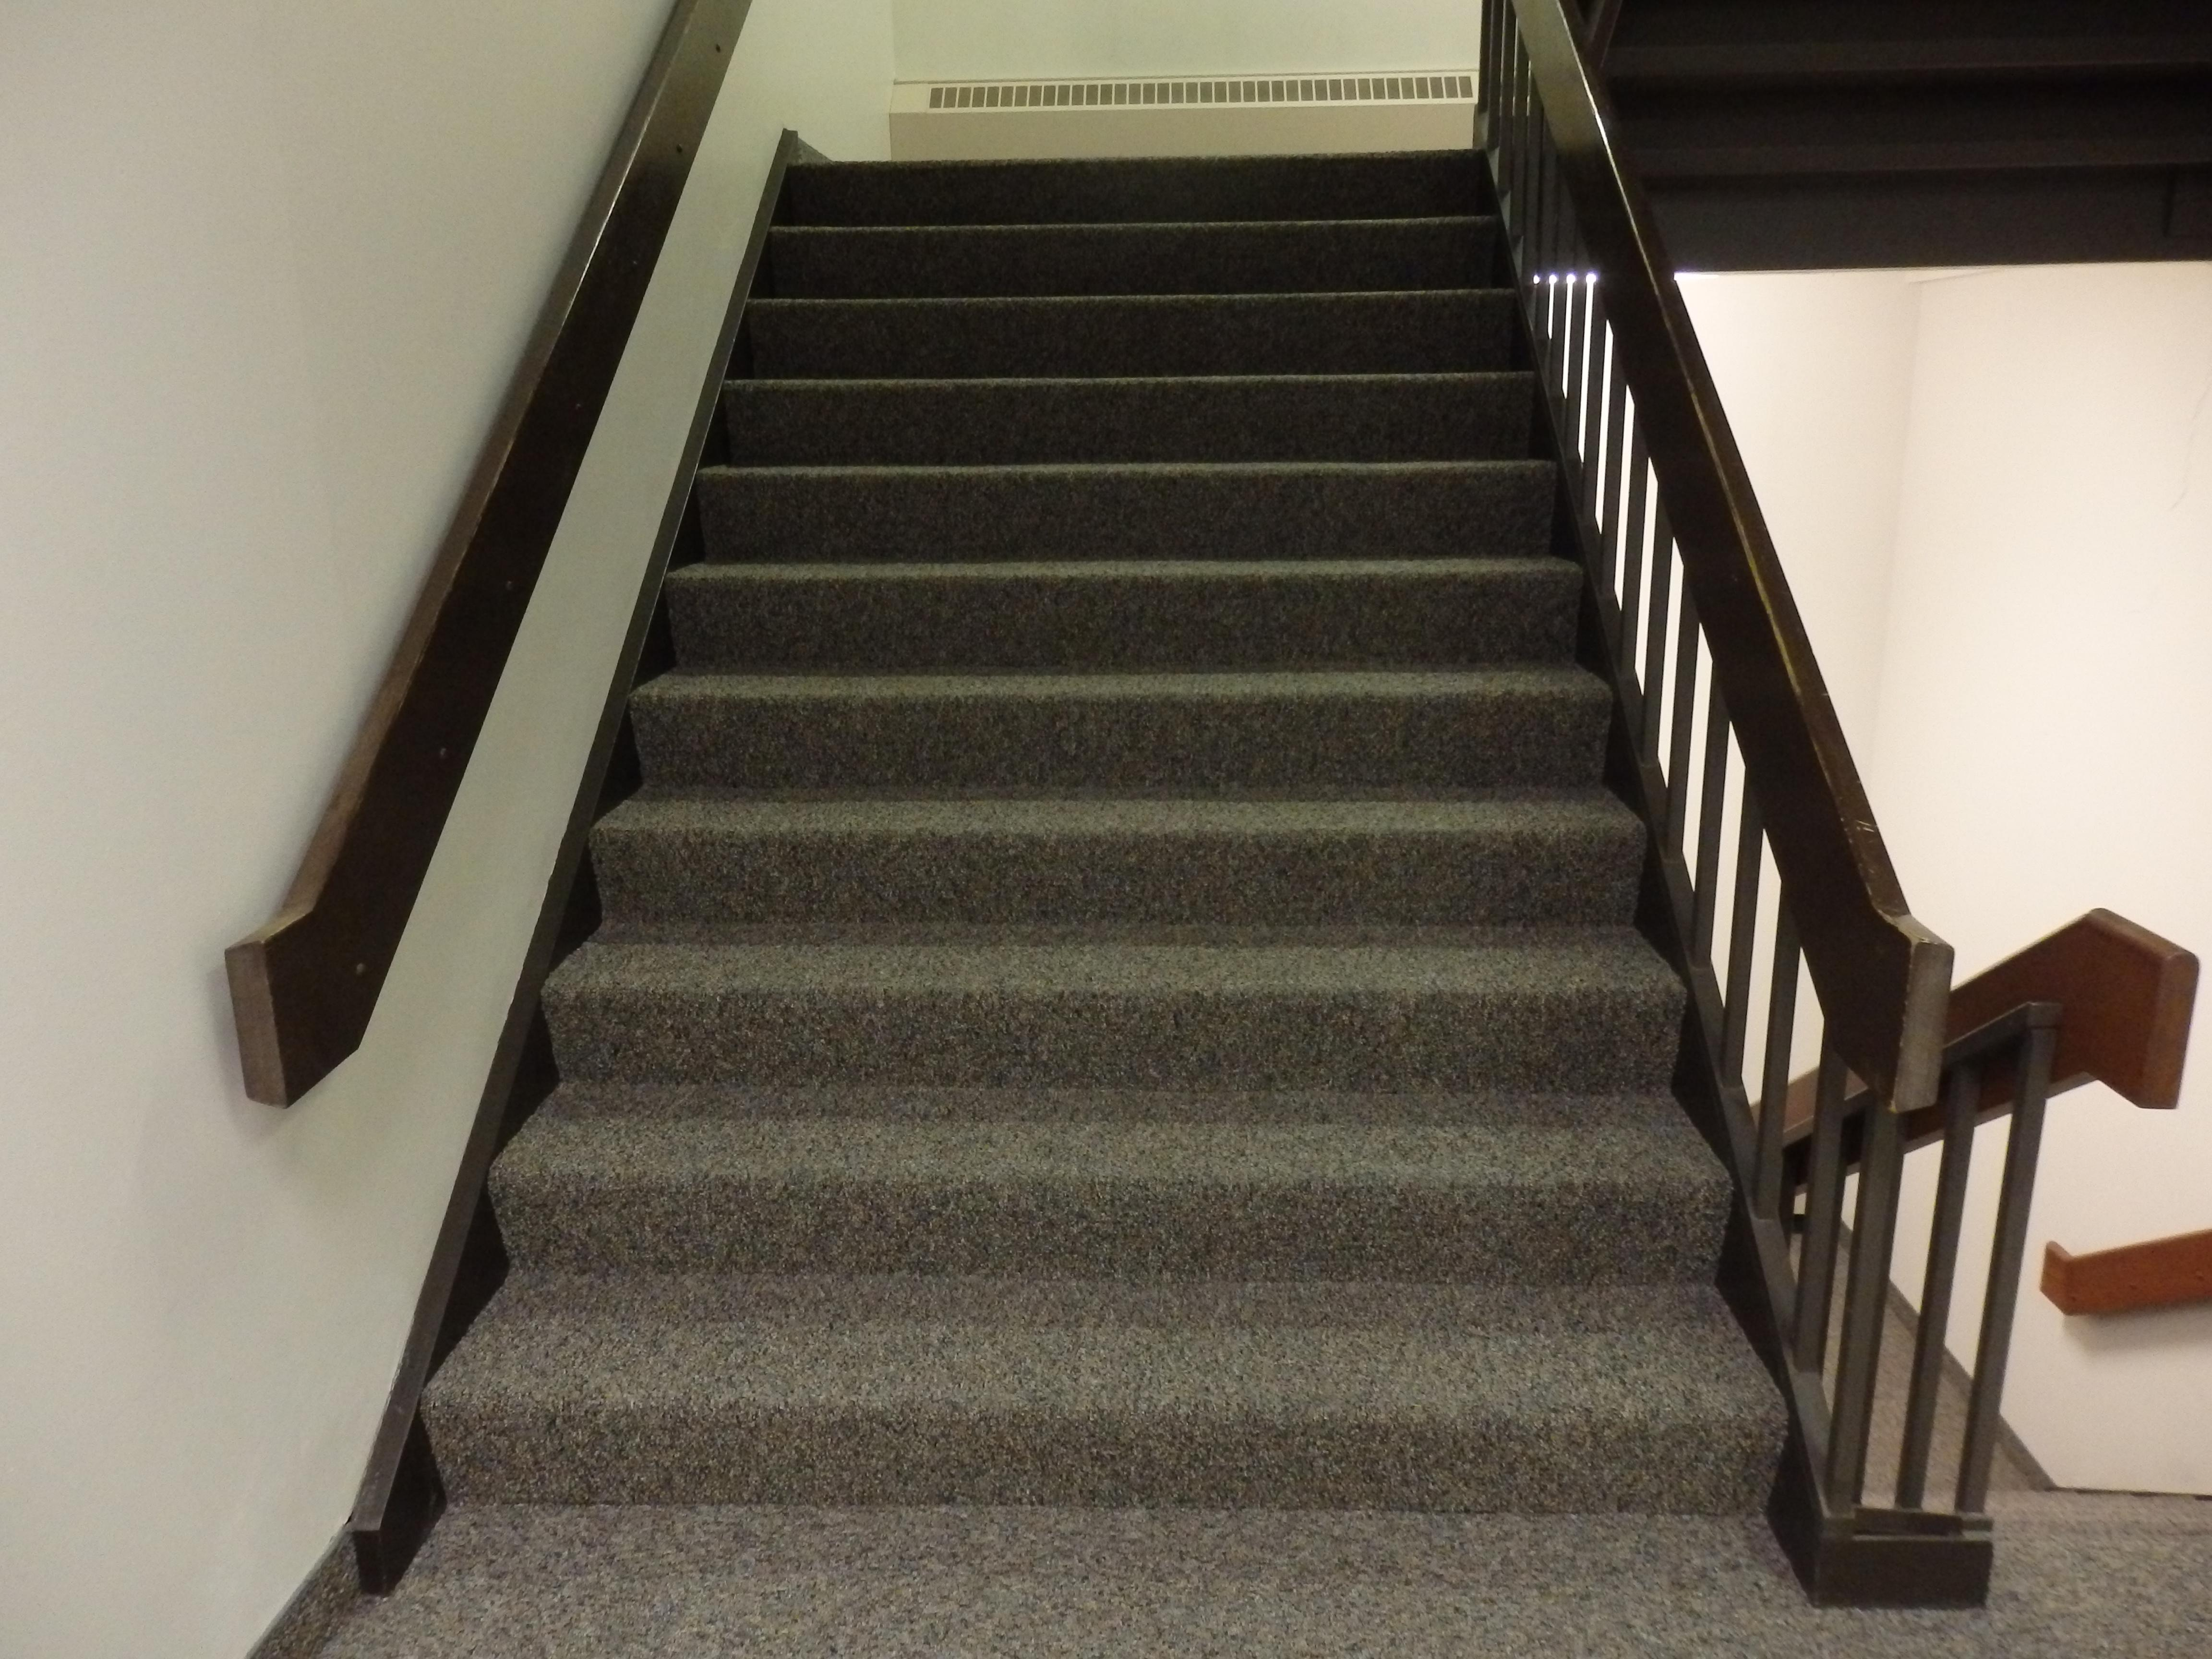stairs_up: (592, 112, 1689, 1561)
